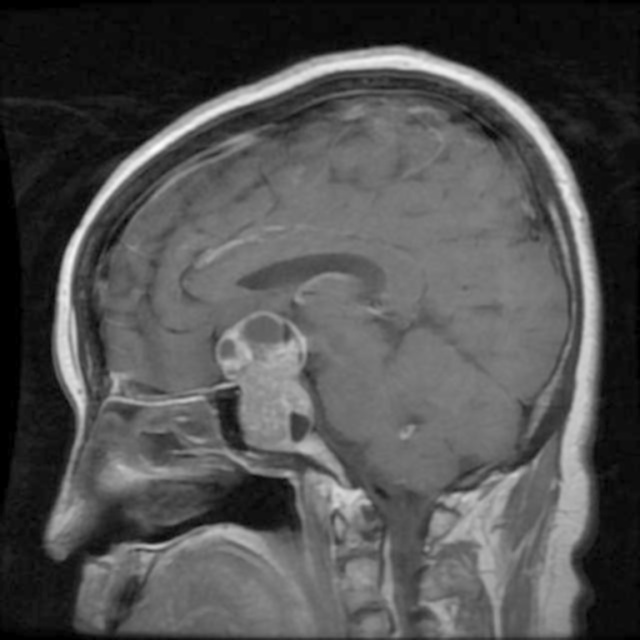no tumor: (214, 308, 325, 452)
